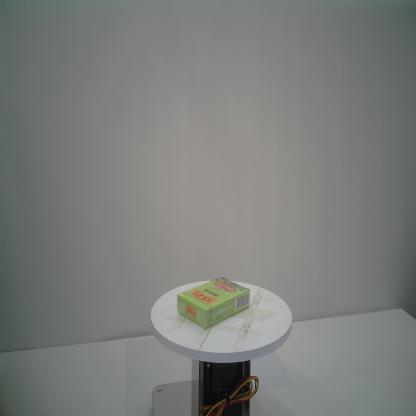Candy: (177, 275, 250, 329)
